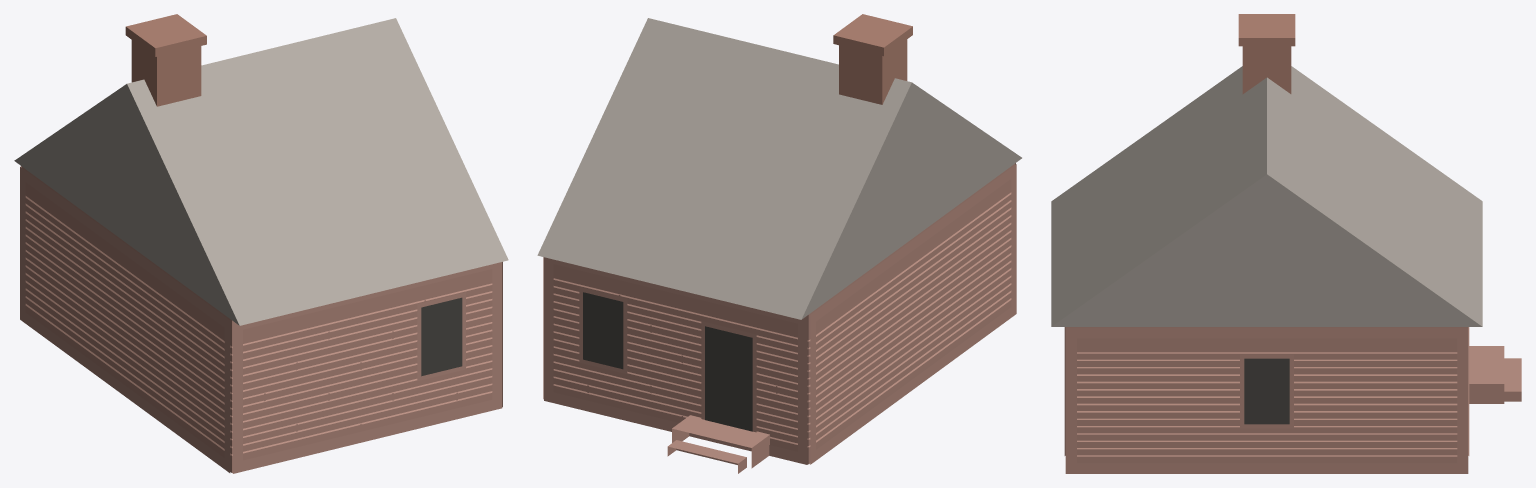
The model's file is recon_1835_south_d3_027__inferred_1835.glb.
3 views of the same model, side by side, from view 1: azimuth 30°, elevation 25°; view 2: azimuth 150°, elevation 25°; view 3: azimuth 270°, elevation 25° (orthographic). The views are drawn at different scales.
Parts seen in each view (by area): view 1: recon_1835_south_d3_027__inferred_1835; view 2: recon_1835_south_d3_027__inferred_1835; view 3: recon_1835_south_d3_027__inferred_1835.
Part boxes in pixels (box(x1,y1,x2,y2)): recon_1835_south_d3_027__inferred_1835: box(14, 14, 508, 473); recon_1835_south_d3_027__inferred_1835: box(537, 14, 1021, 473); recon_1835_south_d3_027__inferred_1835: box(1051, 14, 1521, 473).
Bounding box in the file's own units: 5.2 × 6.47 × 8.11.
